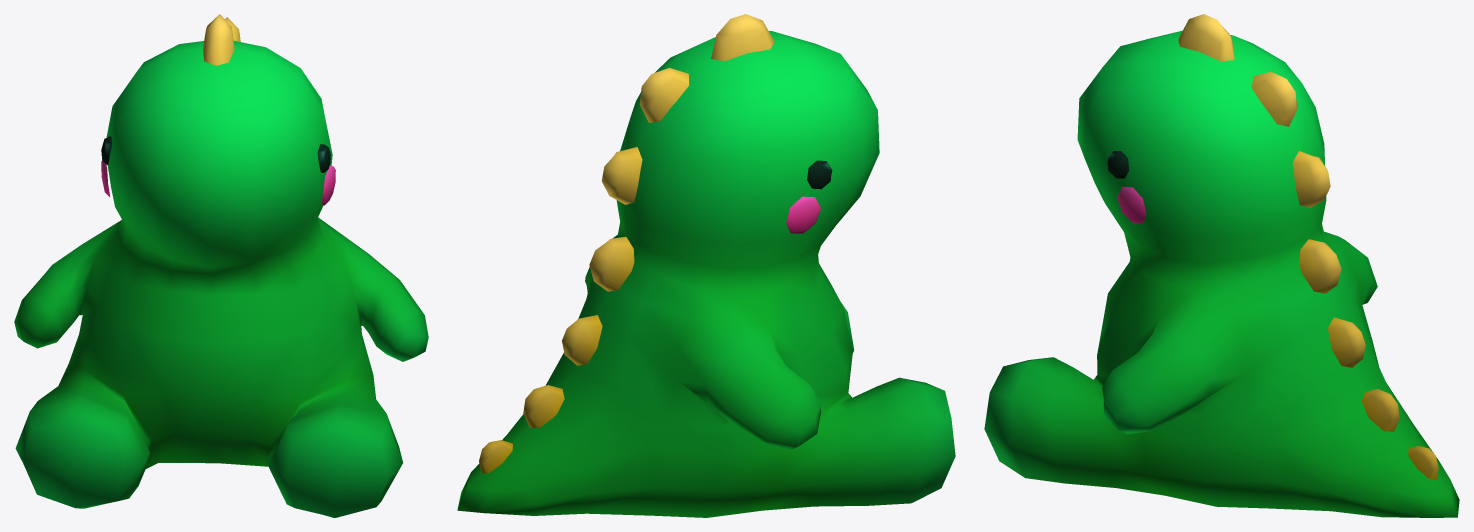
Rendered from Dinosaur.fbx.
The picture shows the model from 3 angles, left to right: view 1: azimuth 30°, elevation 25°; view 2: azimuth 150°, elevation 25°; view 3: azimuth 270°, elevation 25°; orthographic projection. The views are drawn at different scales.
Visible parts, largest first — view 1: Dinosaur; view 2: Dinosaur; view 3: Dinosaur.
Part boxes in pixels (bbox=[...]): Dinosaur: bbox=[14, 14, 428, 517]; Dinosaur: bbox=[457, 14, 955, 517]; Dinosaur: bbox=[984, 14, 1459, 517].
Size of the model in its own units: 2496 by 2860 by 2770.
1 material, 1 textured.
